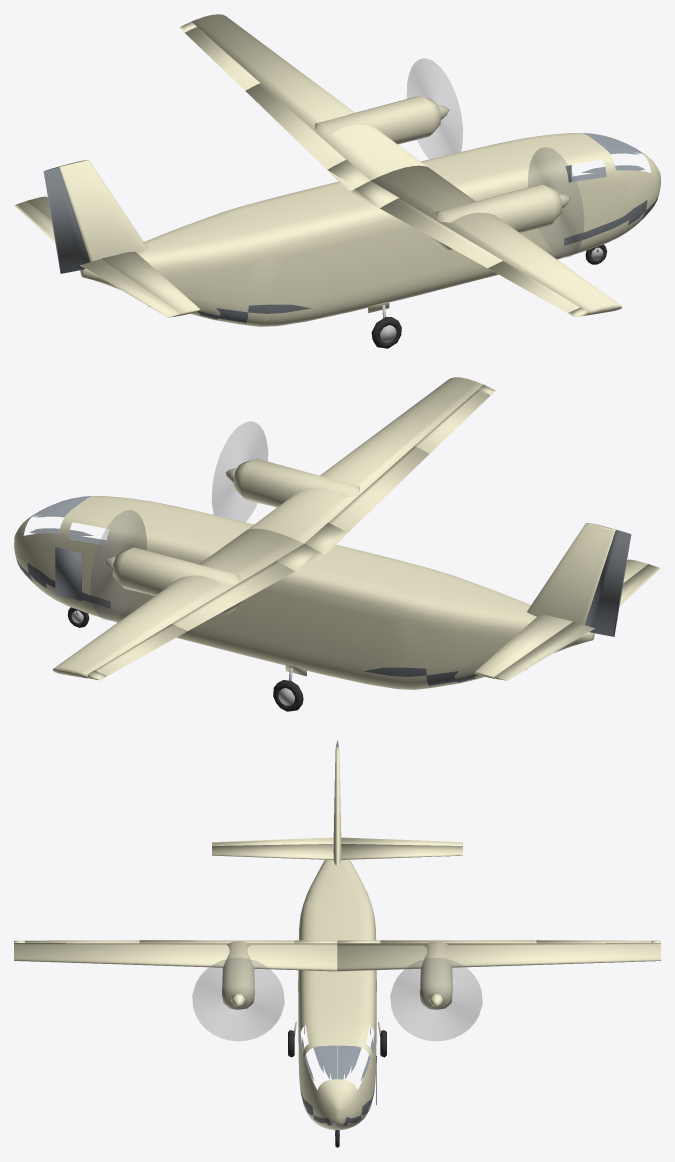
Rendered from haulmaster_lod1.glb.
3 views of the same model, one above another, from view 1: azimuth 30°, elevation 25°; view 2: azimuth 150°, elevation 25°; view 3: azimuth 270°, elevation 25° (orthographic). The views are drawn at different scales.
Visible parts, largest first — view 1: fuselage, wing_L, wing_R, fin, prop_2_disc, nacelle_2, nacelle_1, prop_1_disc, rudder, stabilizer, flap_L_1, flap_R_1 (+5 smaller); view 2: fuselage, wing_R, wing_L, fin, prop_1_disc, nacelle_1, nacelle_2, prop_2_disc, rudder, stabilizer, flap_R_1, flap_L_1 (+6 smaller); view 3: fuselage, wing_L, wing_R, prop_1_disc, prop_2_disc, stabilizer, nacelle_2, nacelle_1, glass, elevator, fin, flap_L_1 (+1 smaller).
Part boxes in pixels (x1,y1,x2,y2): fuselage: [80, 133, 660, 326]; wing_L: [179, 14, 427, 191]; wing_R: [350, 165, 621, 317]; fin: [58, 160, 147, 261]; prop_2_disc: [528, 147, 583, 256]; nacelle_2: [431, 184, 562, 250]; nacelle_1: [315, 96, 440, 144]; prop_1_disc: [407, 58, 462, 158]; rudder: [43, 167, 90, 273]; stabilizer: [27, 196, 200, 315]; flap_L_1: [245, 83, 345, 169]; flap_R_1: [380, 198, 502, 268]; fuselage: [14, 496, 594, 689]; wing_R: [247, 377, 495, 554]; wing_L: [53, 528, 324, 680]; fin: [527, 523, 616, 624]; prop_1_disc: [91, 510, 146, 619]; nacelle_1: [112, 547, 243, 613]; nacelle_2: [233, 458, 359, 507]; prop_2_disc: [212, 421, 267, 521]; rudder: [584, 530, 631, 636]; stabilizer: [474, 559, 647, 678]; flap_R_1: [329, 446, 429, 532]; flap_L_1: [172, 561, 294, 631]; fuselage: [298, 859, 376, 1129]; wing_L: [337, 940, 660, 971]; wing_R: [14, 940, 337, 971]; prop_1_disc: [390, 958, 482, 1040]; prop_2_disc: [192, 958, 284, 1040]; stabilizer: [212, 844, 462, 859]; nacelle_2: [222, 941, 254, 1009]; nacelle_1: [420, 941, 452, 1009]; glass: [299, 1033, 375, 1080]; elevator: [212, 837, 462, 845]; fin: [333, 746, 341, 865]; flap_L_1: [380, 940, 535, 943].
Size of the model in its own units: 17.6 by 6.37 by 19.6.
